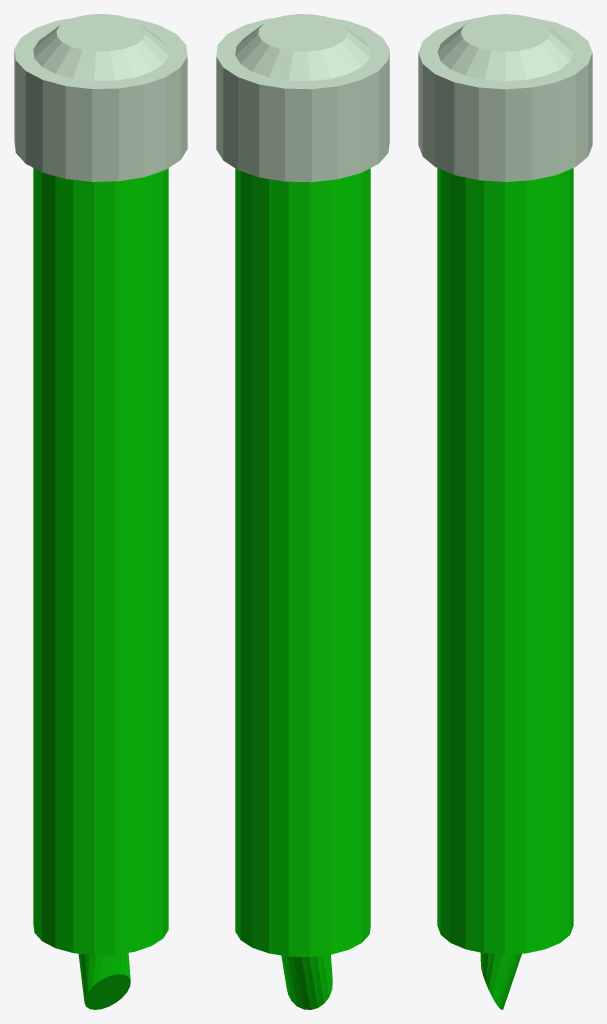
The model's file is glowstickie.fbx.
3 renders of one model, left to right at view 1: azimuth 30°, elevation 25°; view 2: azimuth 150°, elevation 25°; view 3: azimuth 270°, elevation 25°, orthographic.
Visible parts, largest first — view 1: glowstickie; view 2: glowstickie; view 3: glowstickie.
Part boxes in pixels (x1,y1,x2,y2): glowstickie: (14, 14, 187, 1009); glowstickie: (216, 14, 389, 1009); glowstickie: (418, 14, 592, 1009).
Bounding box in the file's own units: 0.0868 × 0.5362 × 0.0868.
